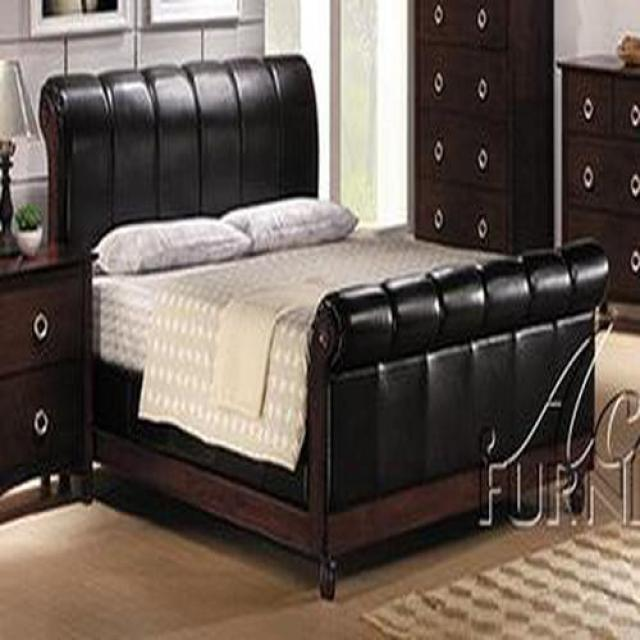bed: (42, 55, 614, 603)
